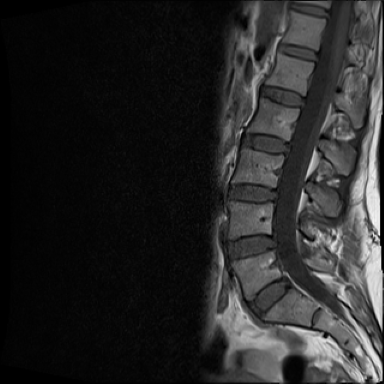Normal IVD: (242, 271, 293, 321), (226, 229, 281, 264), (254, 81, 307, 110), (241, 130, 295, 157), (223, 181, 284, 204), (273, 40, 320, 63), (287, 1, 333, 20)
